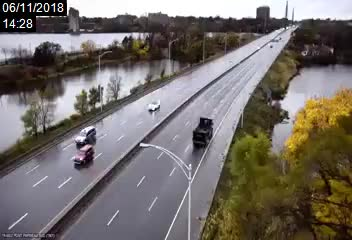personal_car: (72, 144, 95, 164), (76, 127, 96, 145), (148, 98, 160, 112)
truck: (191, 115, 214, 148)
